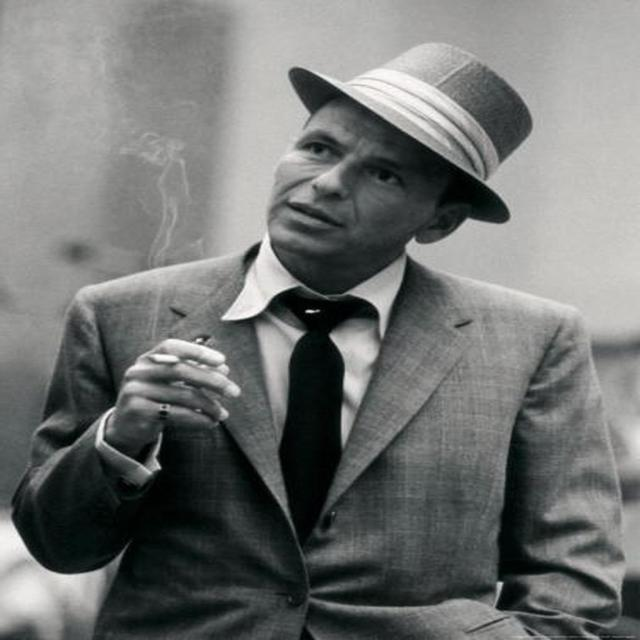smoking: (83, 61, 555, 454)
